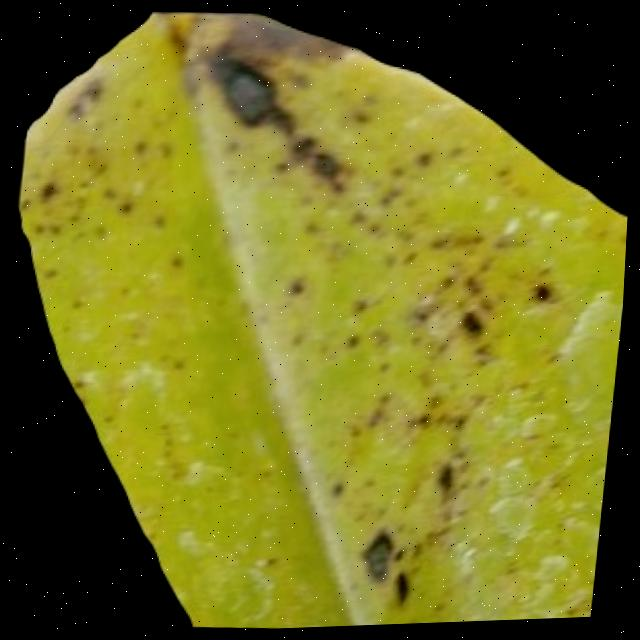mite: (359, 528, 428, 609), (214, 60, 281, 127), (364, 532, 401, 584), (389, 568, 426, 614), (396, 572, 420, 609), (439, 462, 463, 495), (41, 179, 63, 200), (533, 285, 555, 306), (414, 151, 434, 172), (119, 197, 137, 216), (133, 138, 151, 157)
spots: (0, 8, 638, 631)
